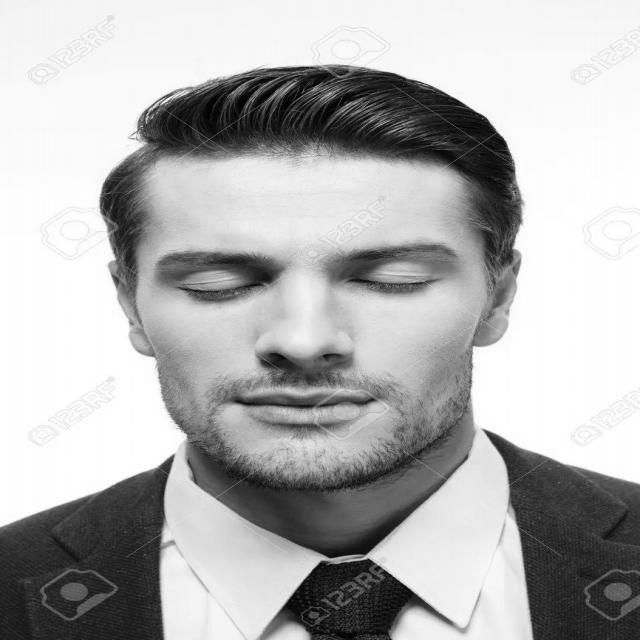real: (105, 125, 522, 492), (139, 236, 464, 317)
